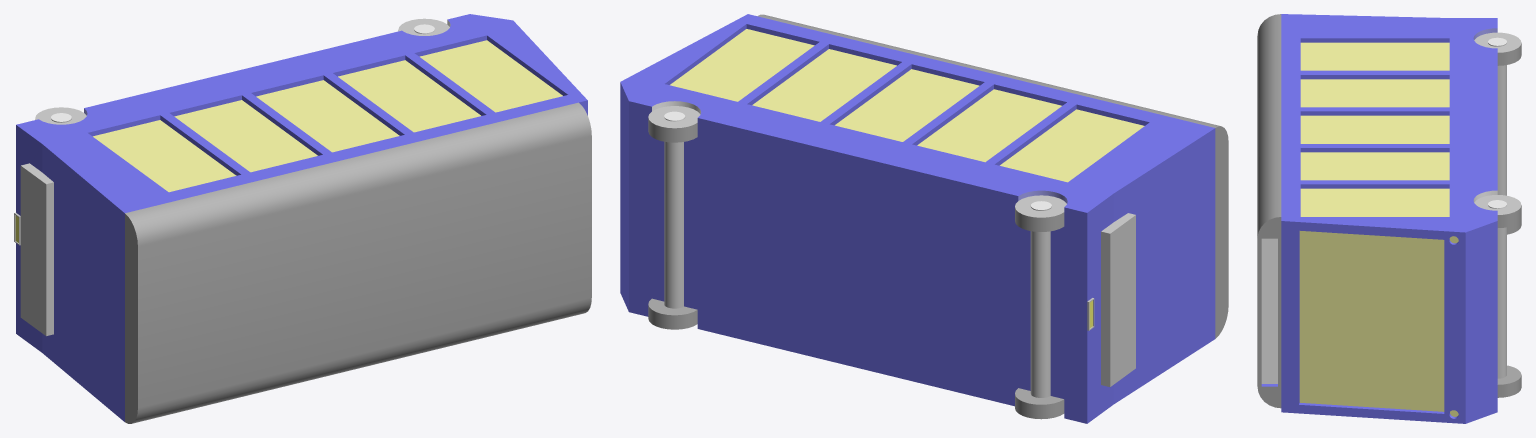
The picture shows the model from 3 angles, left to right: view 1: azimuth 30°, elevation 25°; view 2: azimuth 150°, elevation 25°; view 3: azimuth 270°, elevation 25°; orthographic projection. The views are drawn at different scales.
Parts seen in each view (by area): view 1: ID125, ID167, ID263, ID155, ID113, ID59, ID51, ID185, ID65, ID257, ID45, ID197 (+5 smaller); view 2: ID167, ID263, ID155, ID185, ID113, ID59, ID65, ID51, ID287, ID275, ID257, ID125 (+11 smaller); view 3: ID367, ID167, ID263, ID125, ID185, ID113, ID65, ID59, ID51, ID149, ID119, ID275 (+12 smaller).
Part boxes in pixels (<box>): ID125: <box>125,102,591,423</box>; ID167: <box>16,14,587,212</box>; ID263: <box>16,100,587,421</box>; ID155: <box>20,163,53,336</box>; ID113: <box>174,100,317,172</box>; ID59: <box>93,120,236,192</box>; ID51: <box>419,40,562,112</box>; ID185: <box>256,80,399,152</box>; ID65: <box>338,60,480,132</box>; ID257: <box>125,214,137,423</box>; ID45: <box>170,95,322,155</box>; ID197: <box>88,115,240,175</box>; ID167: <box>620,14,1214,418</box>; ID263: <box>620,82,1215,423</box>; ID155: <box>1101,213,1135,386</box>; ID185: <box>835,69,979,141</box>; ID113: <box>917,89,1061,162</box>; ID59: <box>1000,109,1144,182</box>; ID65: <box>752,49,896,121</box>; ID51: <box>670,29,814,101</box>; ID287: <box>1030,231,1050,397</box>; ID275: <box>664,141,683,308</box>; ID257: <box>1215,126,1228,338</box>; ID125: <box>757,14,1220,127</box>; ID367: <box>1299,231,1444,411</box>; ID167: <box>1281,14,1497,232</box>; ID263: <box>1281,221,1497,423</box>; ID125: <box>1257,14,1281,237</box>; ID185: <box>1300,115,1449,143</box>; ID113: <box>1300,79,1449,107</box>; ID65: <box>1300,152,1449,180</box>; ID59: <box>1300,42,1449,70</box>; ID51: <box>1300,188,1449,216</box>; ID149: <box>1261,238,1277,383</box>; ID119: <box>1257,217,1281,408</box>; ID275: <box>1497,227,1506,378</box>.
Size of the model in its own units: 0.1368 by 0.0559 by 0.0699.
